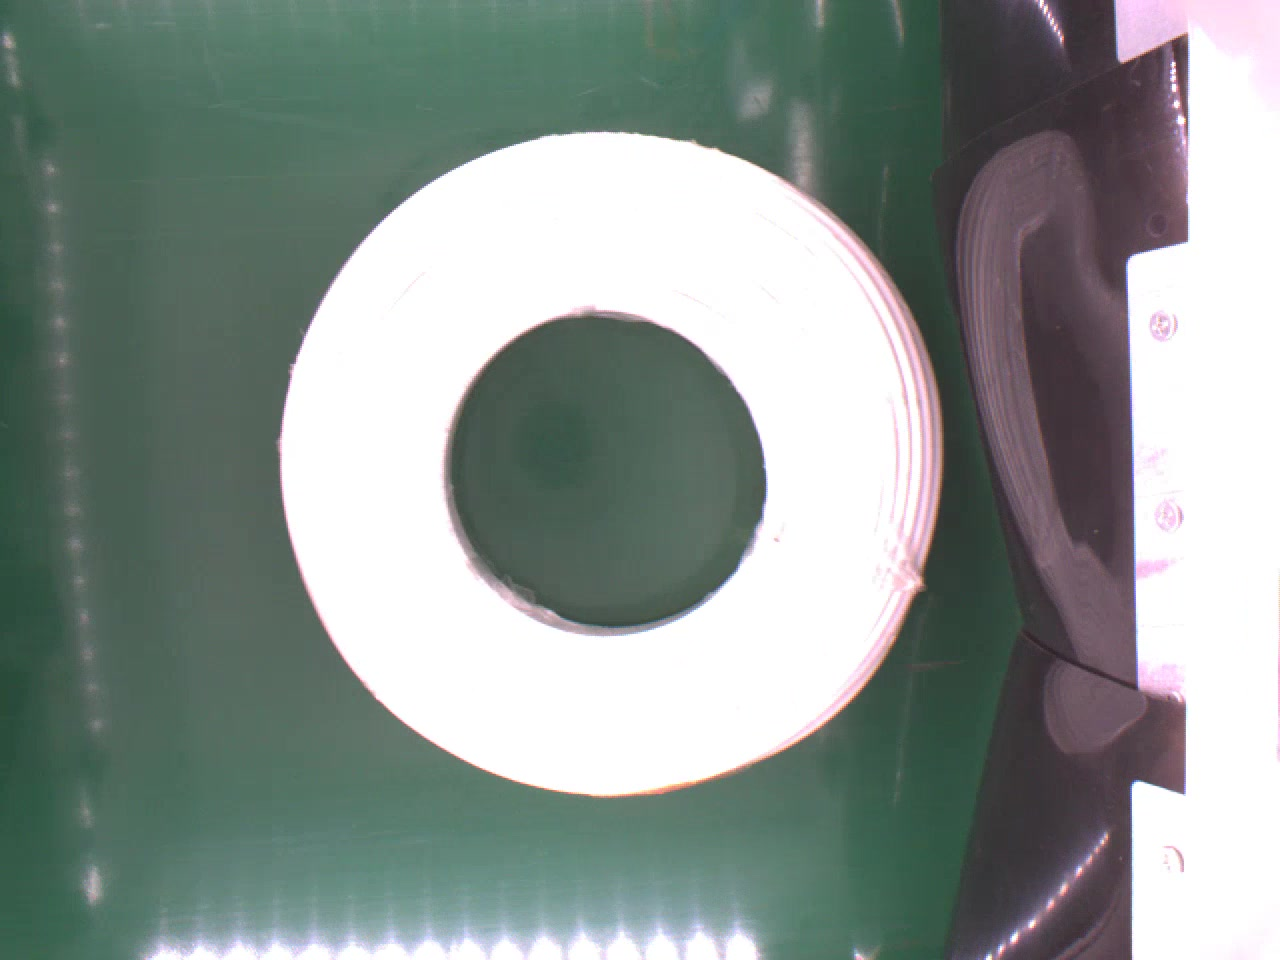white: (272, 125, 942, 798)
